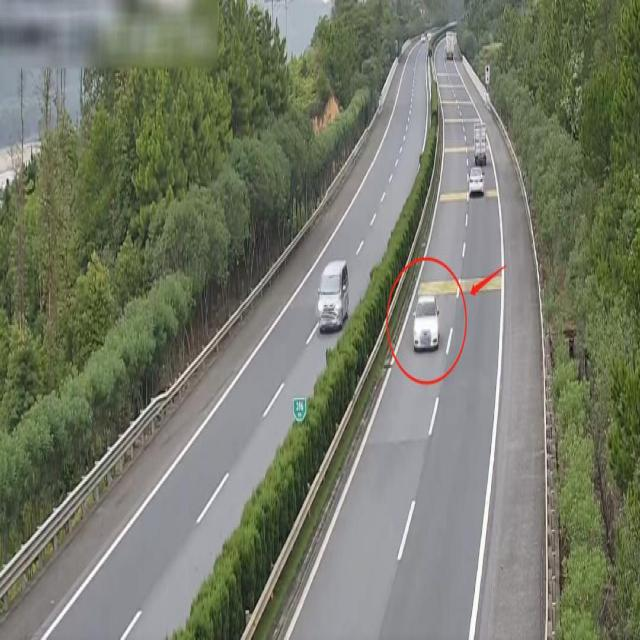point: (369, 0, 497, 229)
